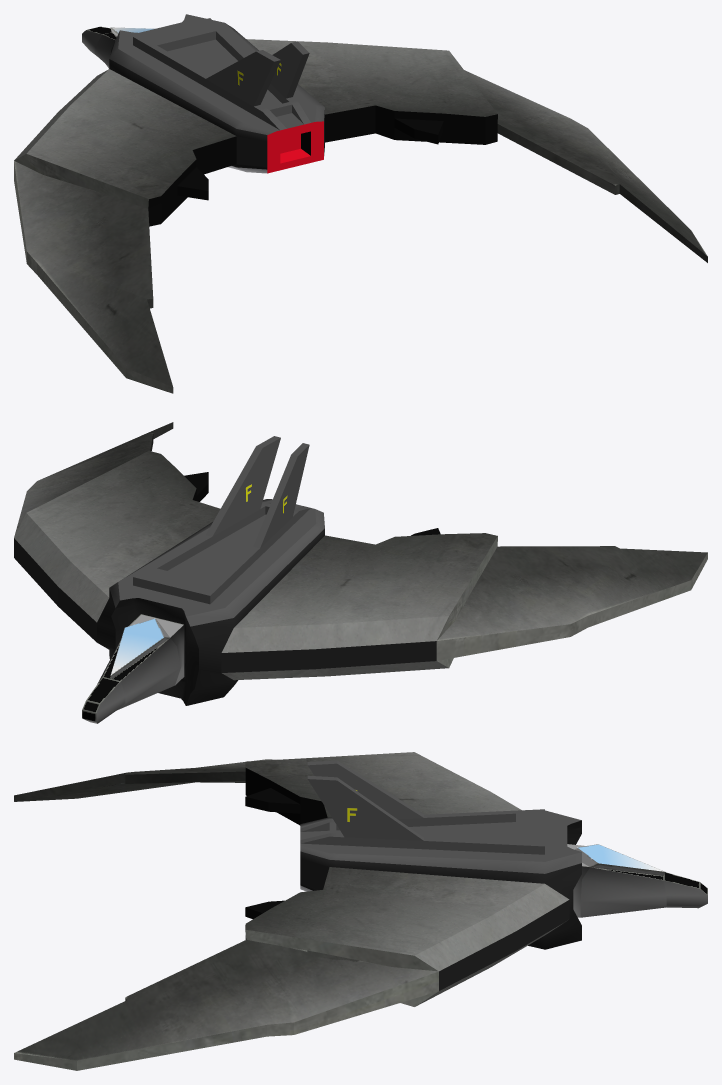
The picture shows the model from 3 angles, top to bottom: view 1: azimuth 30°, elevation 25°; view 2: azimuth 150°, elevation 25°; view 3: azimuth 270°, elevation 25°; orthographic projection.
Visible parts, largest first — view 1: polySurface1; view 2: polySurface1; view 3: polySurface1.
Boxes of the visible parts, x1,y1,x2,y2 form: polySurface1: (14,14,707,393); polySurface1: (14,422,707,723); polySurface1: (14,752,707,1070).
Bounding box in the file's own units: 11.85 × 3.34 × 12.77.
1 material, 1 textured.
